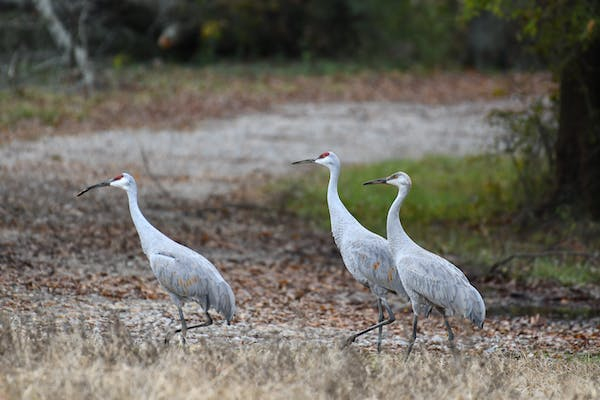Walking: (288, 128, 501, 370), (62, 156, 253, 375)
